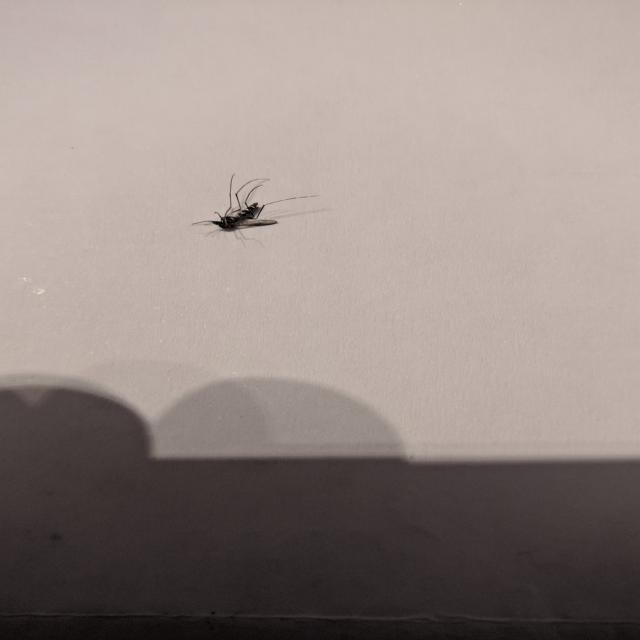albopictus: (182, 170, 332, 245)
